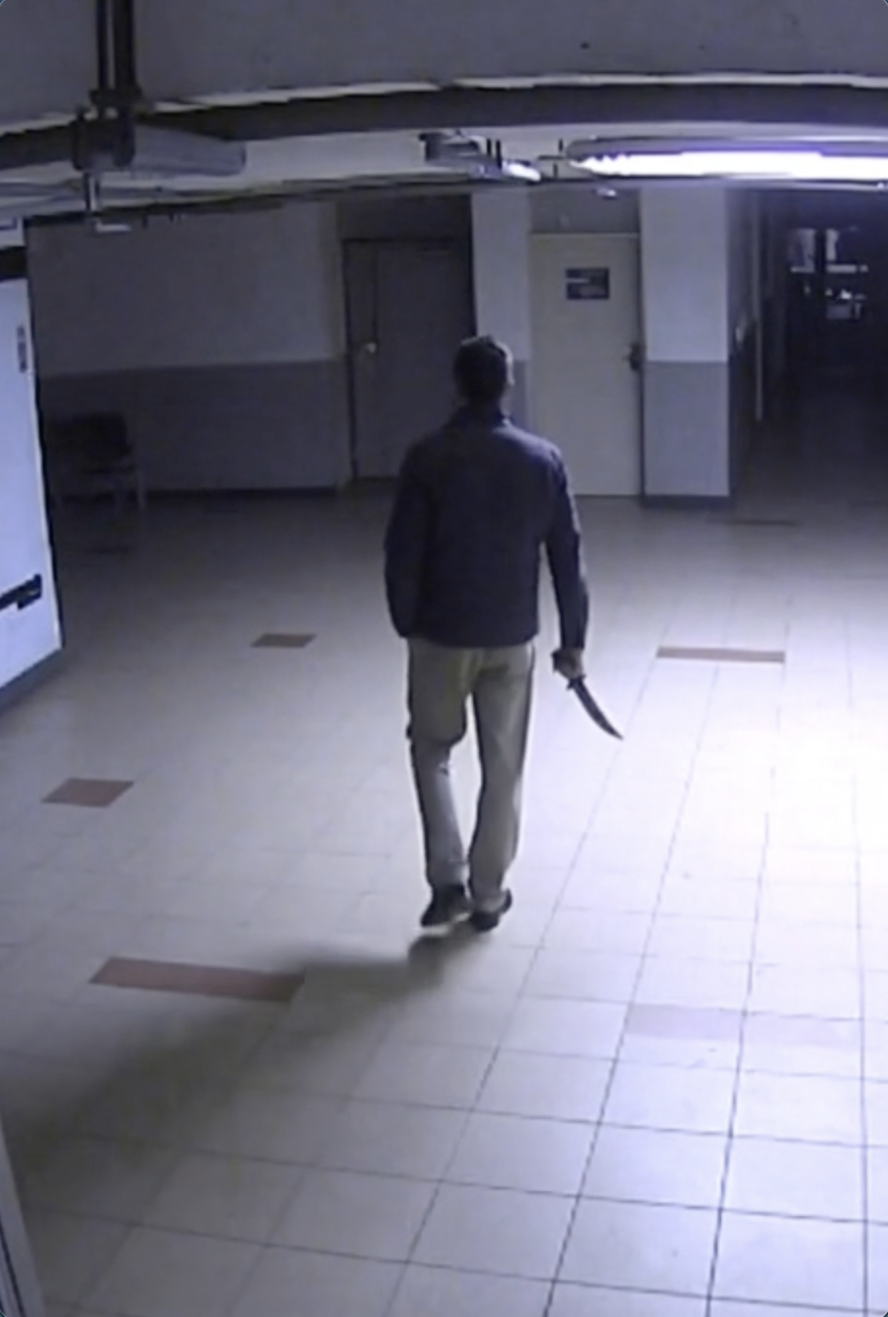Heavy Gun: (372, 329, 592, 953)
Knife: (544, 648, 632, 748)
